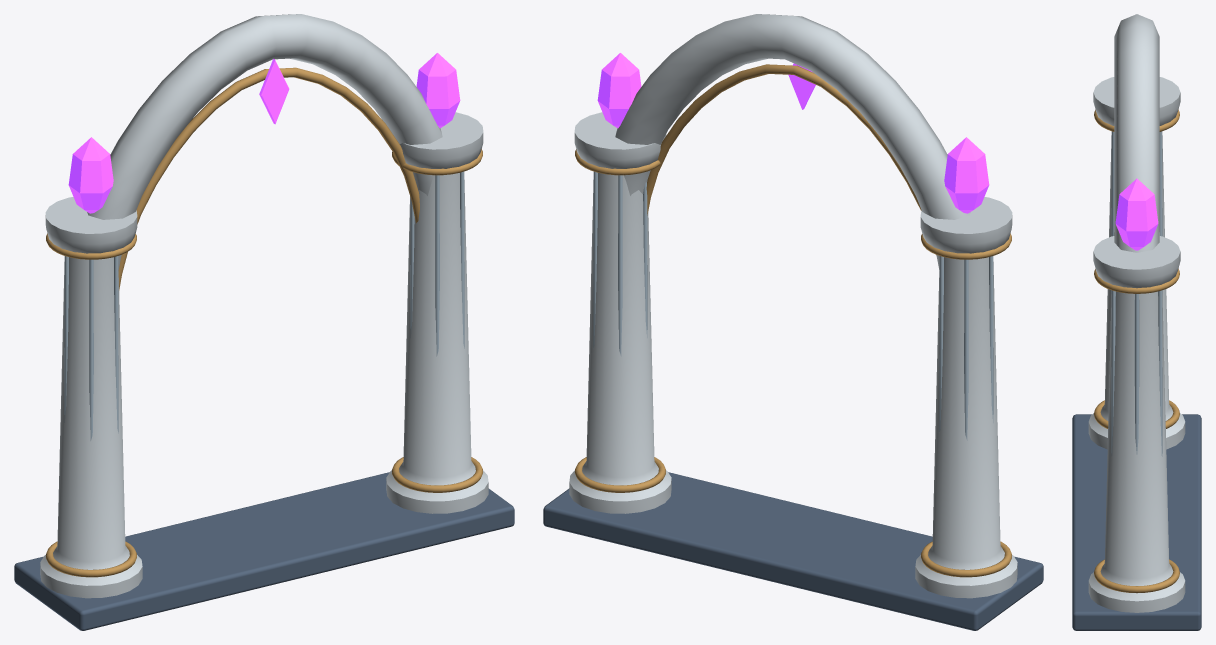
The model's file is moonsteel-convergence-sanctuary-gateway-c9694359__18159.glb.
The picture shows the model from 3 angles, left to right: view 1: azimuth 30°, elevation 25°; view 2: azimuth 150°, elevation 25°; view 3: azimuth 270°, elevation 25°; orthographic projection. The views are drawn at different scales.
Visible parts, largest first — view 1: sanctuary-gateway; view 2: sanctuary-gateway; view 3: sanctuary-gateway.
Part boxes in pixels (bbox=[...]): sanctuary-gateway: bbox=[14, 14, 514, 630]; sanctuary-gateway: bbox=[543, 14, 1043, 630]; sanctuary-gateway: bbox=[1072, 14, 1201, 630].
Size of the model in its own units: 4.4 by 5.21 by 1.2.
